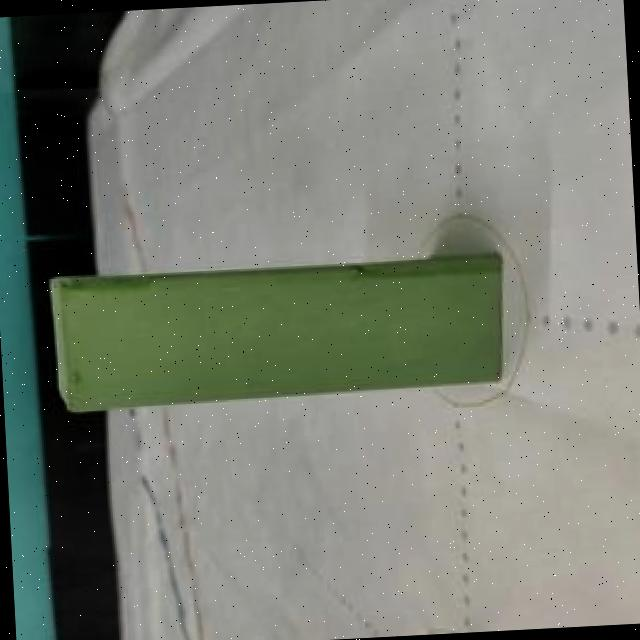greenbox: (45, 249, 506, 412)
